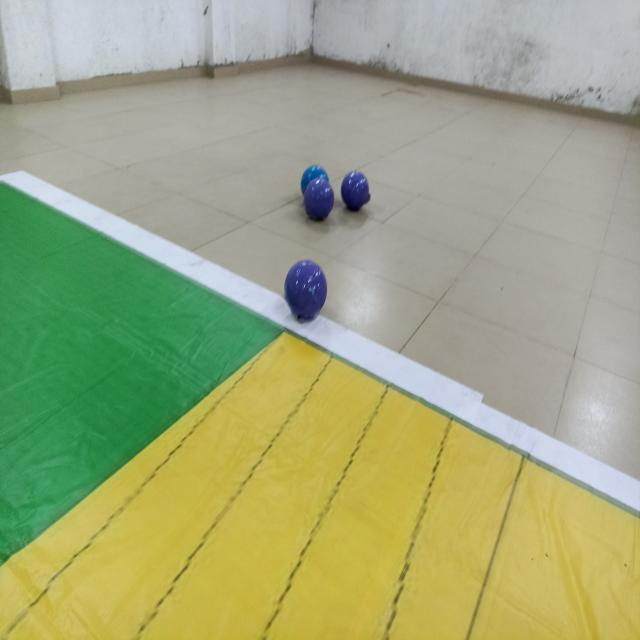blue_ball: (301, 165, 330, 194)
purple_ball: (286, 261, 327, 320), (303, 180, 334, 220), (340, 170, 369, 210)
